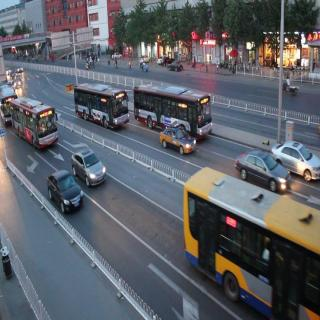BigCar: (185, 162, 320, 313), (132, 83, 214, 137), (70, 78, 132, 133), (11, 99, 61, 156)
Car: (233, 150, 290, 195), (272, 133, 320, 183), (47, 171, 83, 212), (72, 145, 107, 187), (159, 120, 196, 156), (167, 59, 184, 73), (112, 50, 124, 61)
